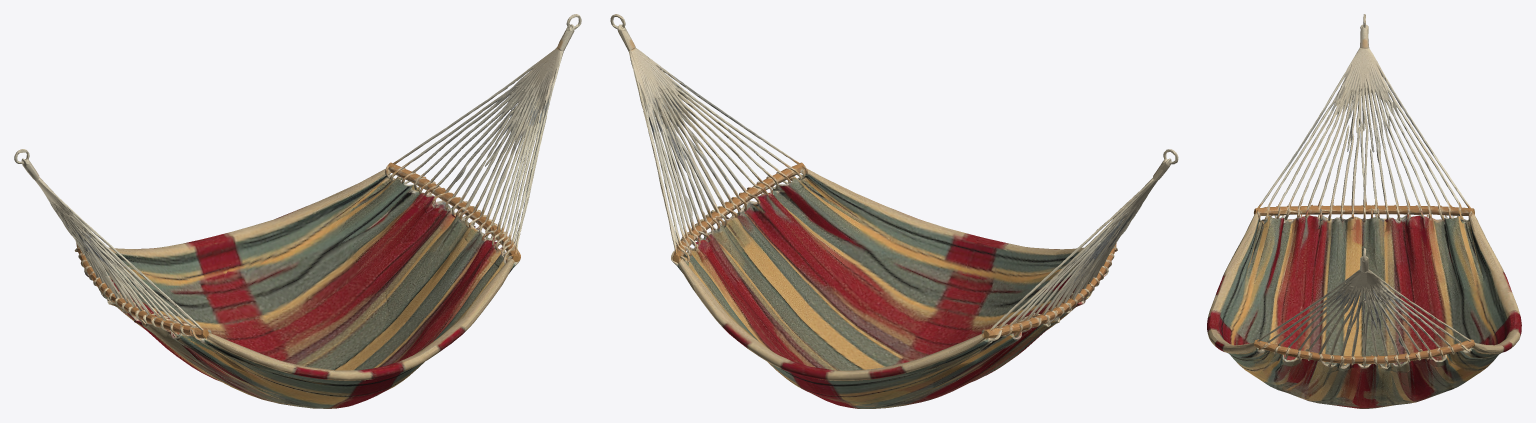
The model's file is hamaca.glb.
3 views of the same model, side by side, from view 1: azimuth 30°, elevation 25°; view 2: azimuth 150°, elevation 25°; view 3: azimuth 270°, elevation 25° (orthographic). The views are drawn at different scales.
Size of the model in its own units: 1.9 by 0.9919 by 1.05.
Materials: 1 (1 with a texture image).
